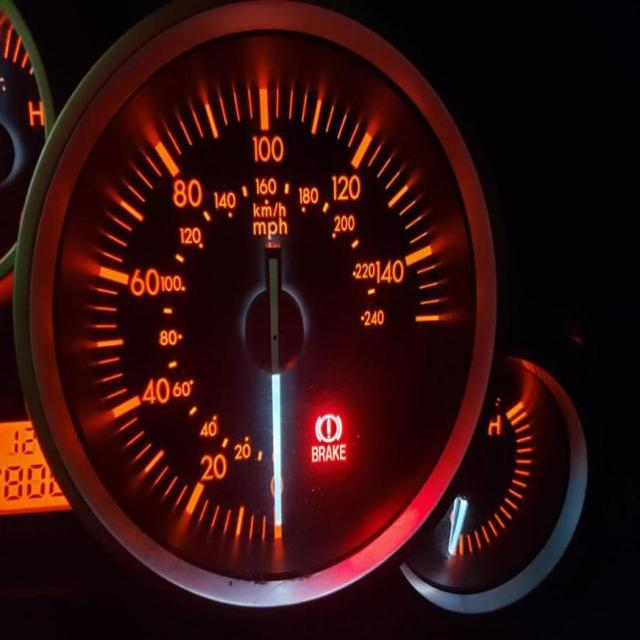kontrolka: (302, 404, 356, 473)
